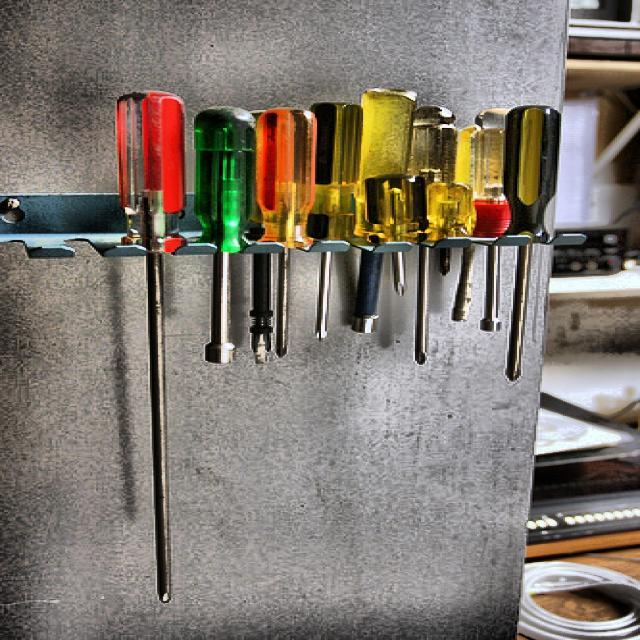screwdriver: (113, 93, 184, 602), (191, 108, 253, 366), (504, 105, 560, 380), (260, 110, 312, 356)
